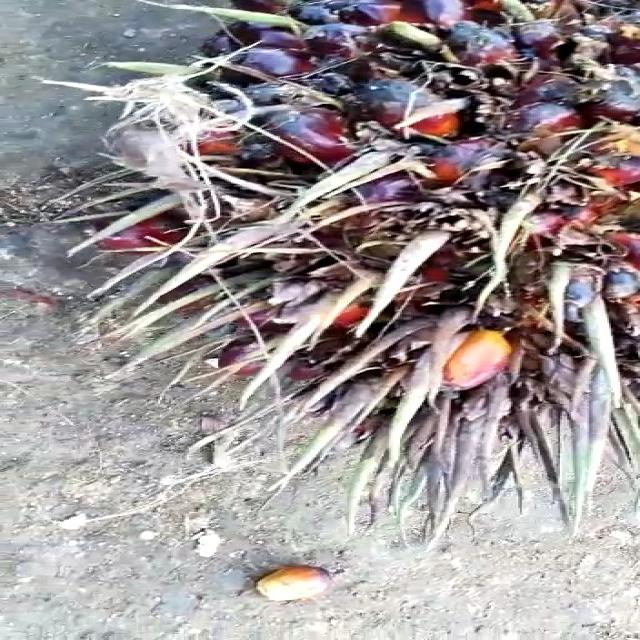palm oil: (77, 0, 640, 486)
